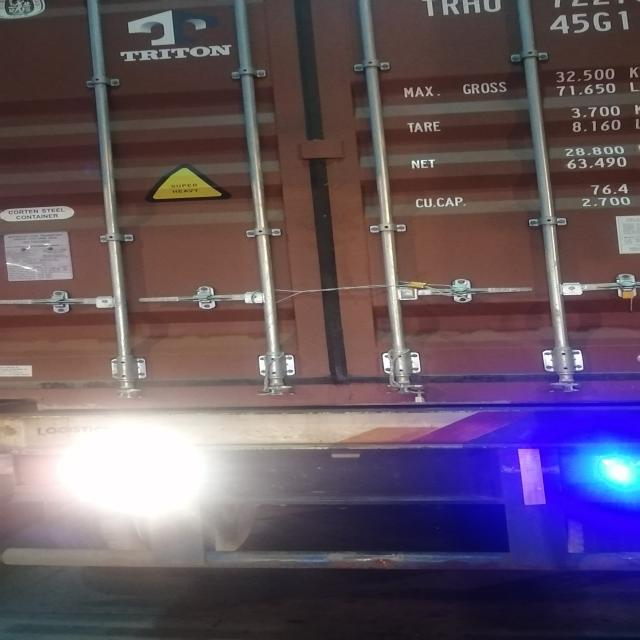seal: (615, 279, 638, 311), (412, 382, 428, 402)
